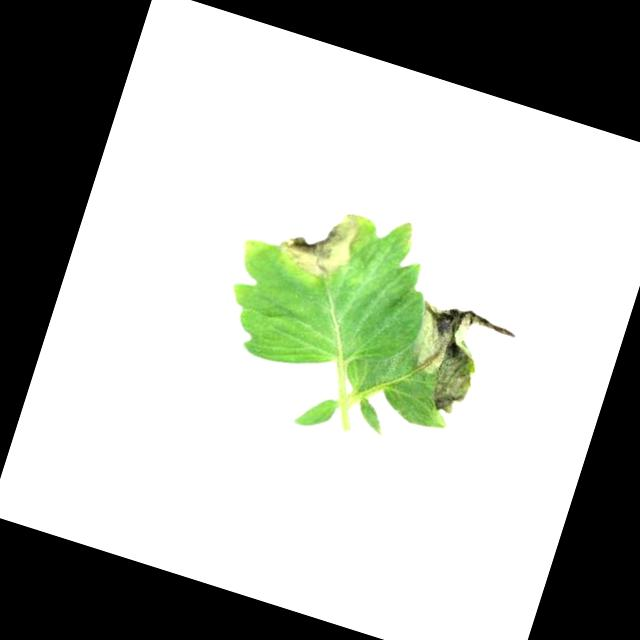Late_blight: (391, 292, 518, 426), (270, 191, 367, 289)
